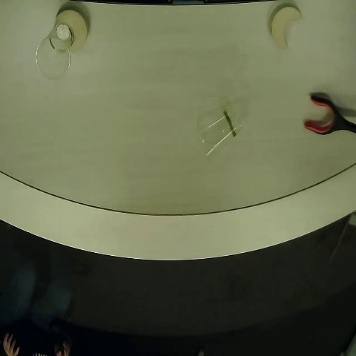empty_cup: (185, 98, 253, 162), (34, 21, 76, 88)
puck: (53, 9, 91, 56), (267, 4, 303, 52)
